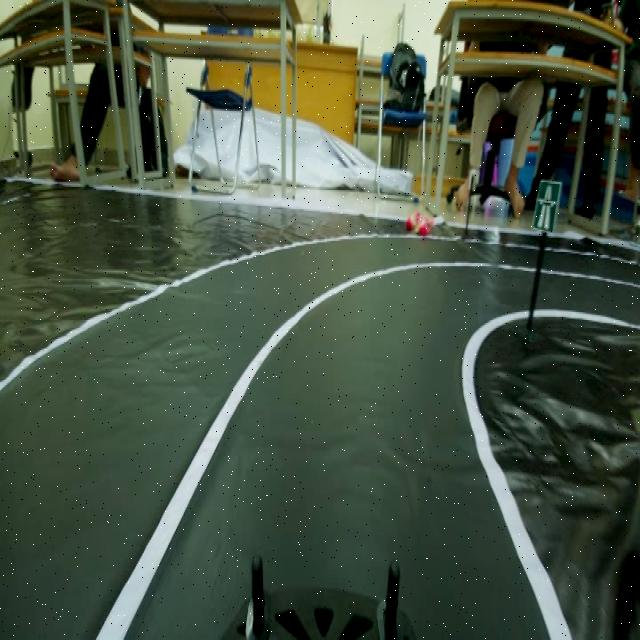highway_entry: (532, 173, 562, 240)
